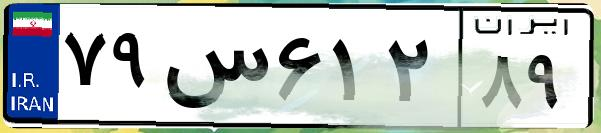1: (330, 28, 385, 110)
2: (385, 28, 445, 110)
6: (270, 28, 330, 110)
7: (57, 26, 110, 100)
8: (475, 38, 525, 113)
9: (525, 38, 570, 115), (110, 28, 158, 98)
س: (158, 20, 270, 120)
